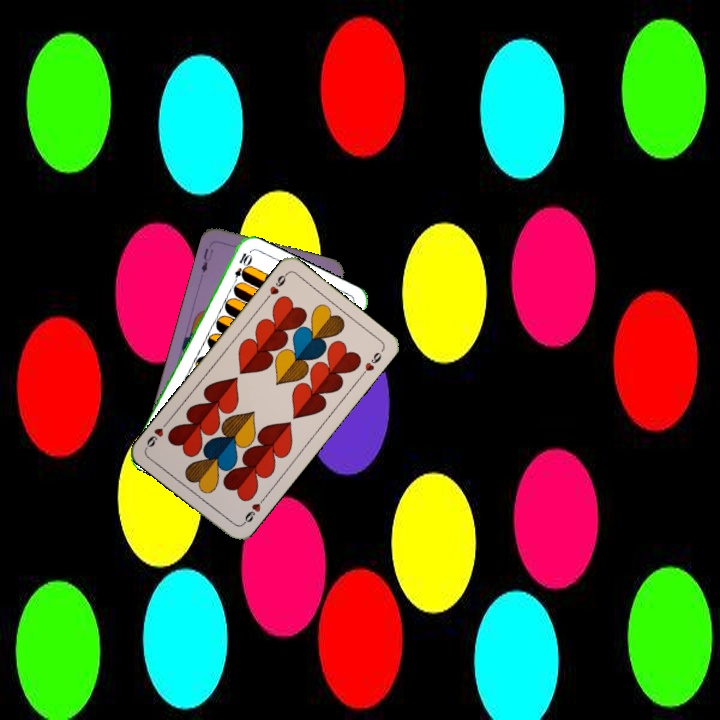E10: (229, 249, 253, 288)
EU: (197, 244, 216, 276)
H9: (238, 493, 268, 528), (261, 269, 290, 304)
